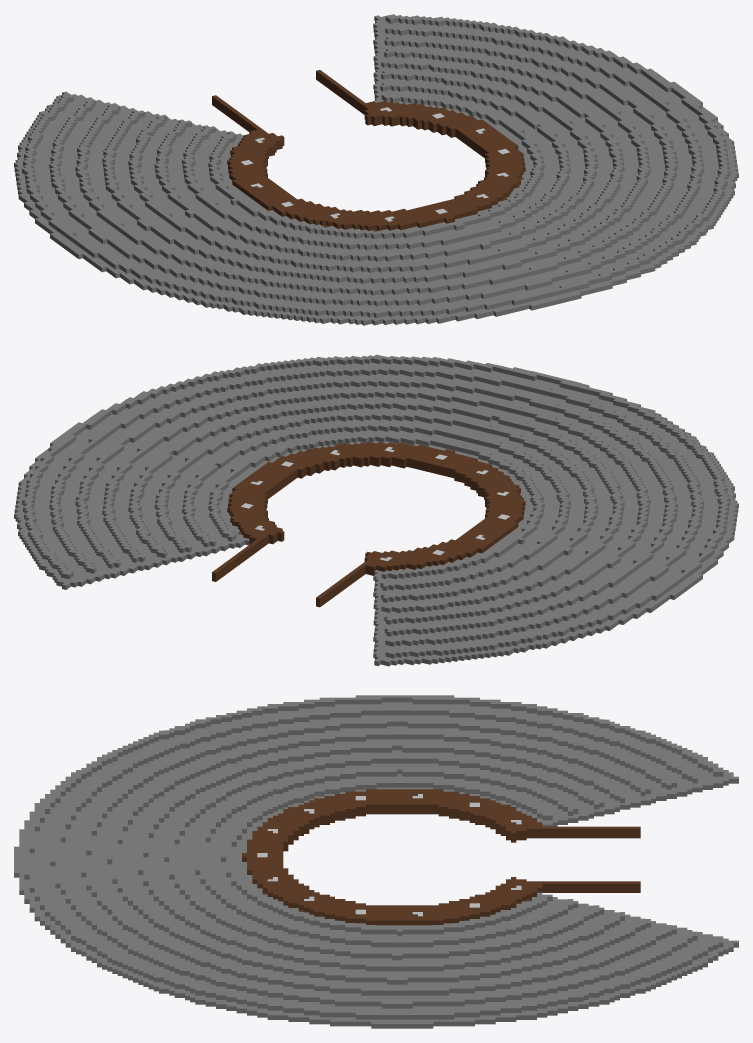
File: lc_chainmail_aventail.glb
The picture shows the model from 3 angles, top to bottom: view 1: azimuth 30°, elevation 25°; view 2: azimuth 150°, elevation 25°; view 3: azimuth 270°, elevation 25°; orthographic projection. The views are drawn at different scales.
Visible parts, largest first — view 1: lc_chainmail_aventail:compound; view 2: lc_chainmail_aventail:compound; view 3: lc_chainmail_aventail:compound.
Part boxes in pixels (box(x1,y1,x2,y2)): lc_chainmail_aventail:compound: box(14, 14, 738, 325); lc_chainmail_aventail:compound: box(14, 354, 738, 666); lc_chainmail_aventail:compound: box(14, 695, 738, 1028).
Size of the model in its own units: 0.6 by 0.008 by 0.56.
